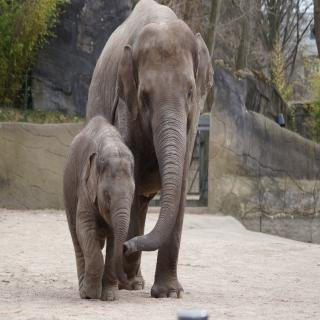Elephant: (86, 0, 222, 309), (55, 111, 137, 306)
